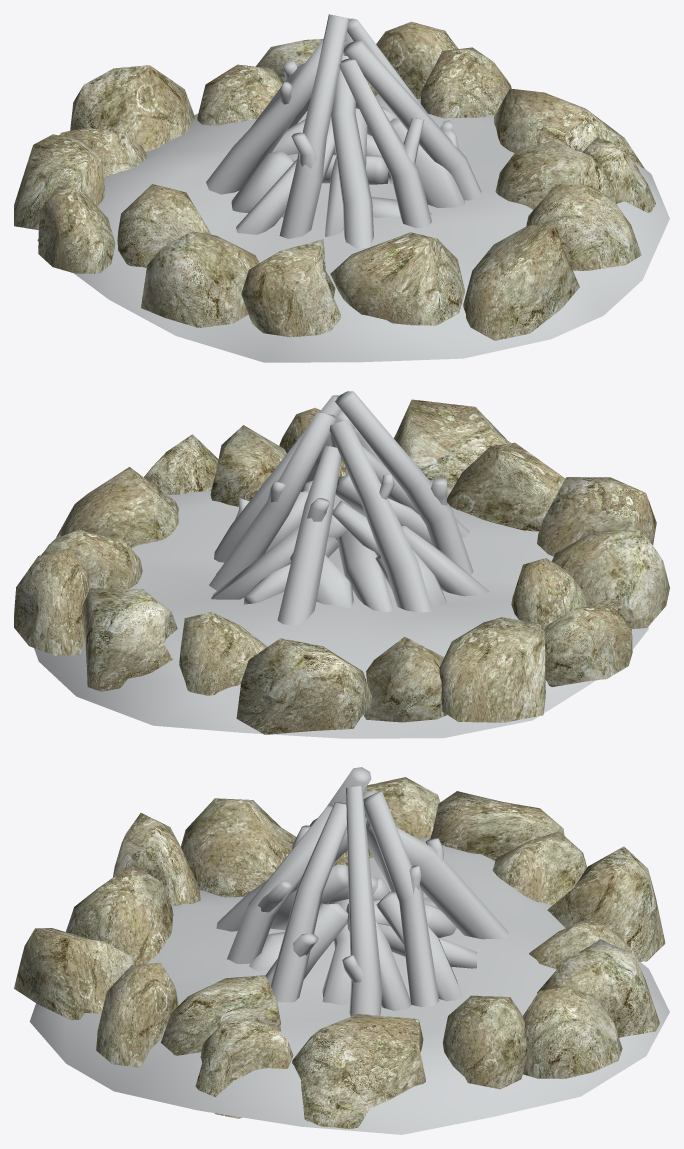
Rendered from Campfire.fbx.
The picture shows the model from 3 angles, top to bottom: view 1: azimuth 30°, elevation 25°; view 2: azimuth 150°, elevation 25°; view 3: azimuth 270°, elevation 25°; orthographic projection. The views are drawn at different scales.
Parts seen in each view (by area): view 1: Rocks, Embers, Branches, BurnedLogs; view 2: Rocks, Embers, Branches, BurnedLogs; view 3: Rocks, Embers, Branches, BurnedLogs.
Boxes of the visible parts, x1,y1,x2,y2 form: Rocks: (14, 21, 655, 340); Embers: (37, 94, 669, 362); Branches: (206, 14, 481, 249); BurnedLogs: (231, 107, 464, 236); Rocks: (14, 399, 669, 734); Embers: (34, 481, 648, 738); Branches: (209, 391, 473, 626); BurnedLogs: (211, 475, 489, 612); Rocks: (14, 777, 665, 1128); Embers: (29, 837, 669, 1134); Branches: (216, 767, 508, 1016); BurnedLogs: (249, 864, 476, 1010).
Bounding box in the file's own units: 166 × 63.86 × 163.
